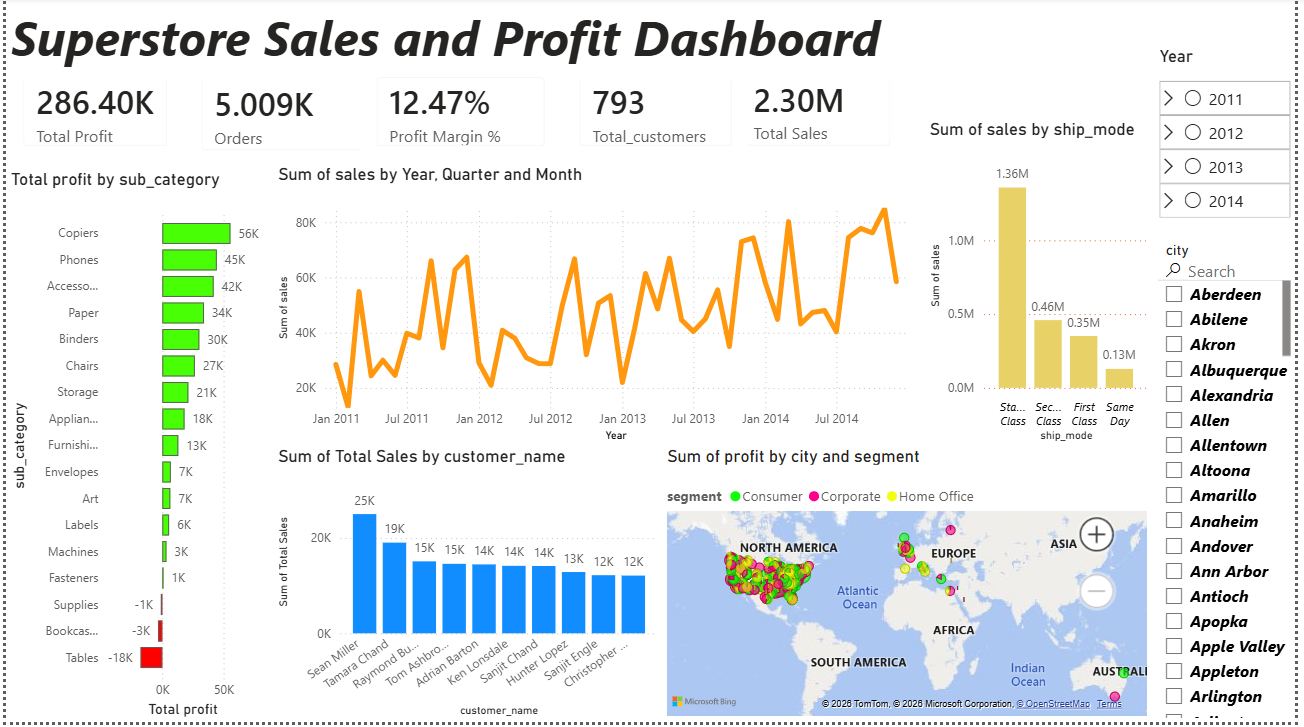

This screenshot's page, from the dashboard's own definition file:
{"tool":"powerbi","page":{"name":"Page 1","canvas":[1280,720],"ordinal":0},"visuals":[{"type":"cardVisual","fields":{"Data":["Sum(superstore.sales)"]},"box":[711.8,58,183.6,107.9],"z":0},{"type":"cardVisual","fields":{"Data":["Sum(superstore.profit)"]},"box":[0,62.8,177.1,103.1],"z":1000},{"type":"cardVisual","fields":{"Data":["Count(superstore.order_id)"]},"box":[177.1,62.8,199.7,107.9],"z":2000},{"type":"actionButton","box":[0,0,100,40],"z":3000},{"type":"lineChart","fields":{"Y":["Sum(superstore.sales)"],"Category":["superstore.order_date.Variation.Date Hierarchy.Year","superstore.order_date.Variation.Date Hierarchy.Quarter","superstore.order_date.Variation.Date Hierarchy.Month"]},"box":[265.7,165.9,645.7,280.2],"z":4000},{"type":"columnChart","fields":{"Category":["superstore.ship_mode"],"Y":["Sum(superstore.sales)"]},"box":[913,120.8,227.1,325.3],"z":5000},{"type":"barChart","fields":{"Y":["Sum(superstore.profit)"],"Category":["superstore.sub_category"]},"box":[0,170.7,265.7,549.1],"z":6000},{"type":"listSlicer","fields":{"Values":["superstore.order_date.Variation.Date Hierarchy.Year","superstore.order_date.Variation.Date Hierarchy.Quarter","superstore.order_date.Variation.Date Hierarchy.Month","superstore.order_date.Variation.Date Hierarchy.Day"]},"box":[1140.1,48.3,140.1,188.4],"z":7000},{"type":"slicer","fields":{"Values":["superstore.city"]},"box":[1138.5,236.7,141.7,483.1],"z":8000},{"type":"map","fields":{"Series":["superstore.segment"],"Category":["superstore.city"],"Size":["Sum(superstore.profit)"]},"box":[652.2,446.1,486.3,273.8],"z":9000},{"type":"cardVisual","fields":{"Data":["Count(superstore.customer_id)"]},"box":[552.3,62.8,185.2,103.1],"z":10000},{"type":"textbox","box":[0,1.6,1058,80.5],"z":11000},{"type":"cardVisual","fields":{"Data":["superstore.Profit Margin %"]},"box":[351,62.8,201.3,103.1],"z":12000},{"type":"columnChart","fields":{"Category":["Top 10 Customers.customer_name"],"Y":["Sum(Top 10 Customers.Total Sales)"]},"box":[265.7,446.1,386.5,273.8],"z":13000}]}

Visuals, with their boxes in screenshot pixels (x1, y1, x2, y2), scaled from the page's 1280x720 canvas onto the 1304x727 screenshot:
cardVisual - Sum(superstore.sales): [725, 59, 912, 168]
cardVisual - Sum(superstore.profit): [0, 63, 180, 168]
cardVisual - Count(superstore.order_id): [180, 63, 384, 172]
actionButton: [0, 0, 102, 40]
lineChart - Sum(superstore.sales) x superstore.order_date.Variation.Date Hierarchy.Year: [271, 168, 928, 450]
columnChart - superstore.ship_mode x Sum(superstore.sales): [930, 122, 1161, 450]
barChart - Sum(superstore.profit) x superstore.sub_category: [0, 172, 271, 726]
listSlicer - superstore.order_date.Variation.Date Hierarchy.Year x superstore.order_date.Variation.Date Hierarchy.Quarter: [1161, 49, 1303, 239]
slicer - superstore.city: [1160, 239, 1303, 726]
map - superstore.segment x superstore.city: [664, 450, 1160, 726]
cardVisual - Count(superstore.customer_id): [563, 63, 751, 168]
textbox: [0, 2, 1078, 83]
cardVisual - superstore.Profit Margin %: [358, 63, 563, 168]
columnChart - Top 10 Customers.customer_name x Sum(Top 10 Customers.Total Sales): [271, 450, 664, 726]
